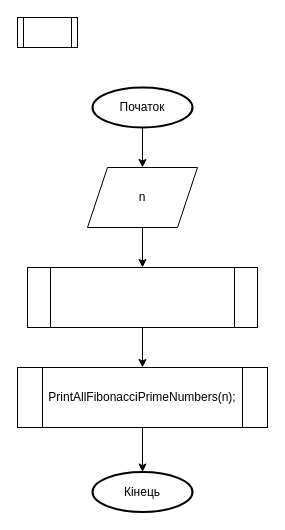
This 285x530 diagram has some shape labels left out. The shapes that lost their labels are listed below. From the top down, each one's box as (x1, y1, x2, y2) in pixels, then its label:
(16, 16, 78, 48): Main
(26, 266, 258, 328): PrintAllQPow2PrimeNumbers(n);
